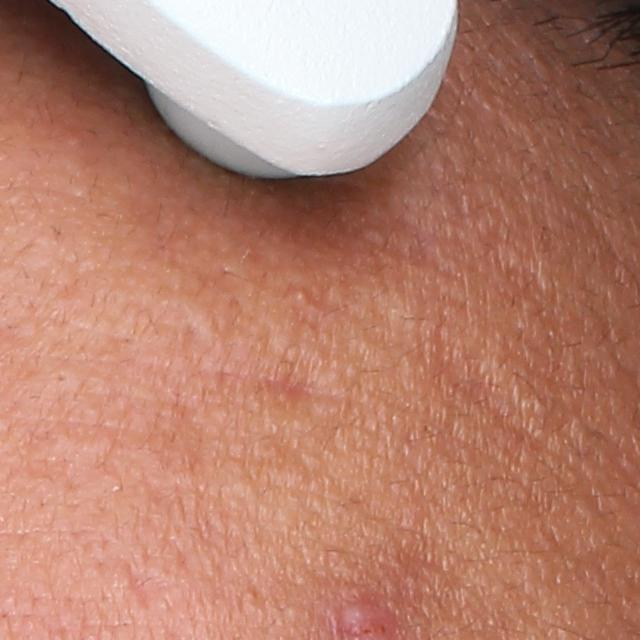atrophic_scar: (446, 356, 590, 450), (225, 336, 339, 415)
comedo: (292, 287, 310, 304)
papule: (341, 594, 385, 640)
